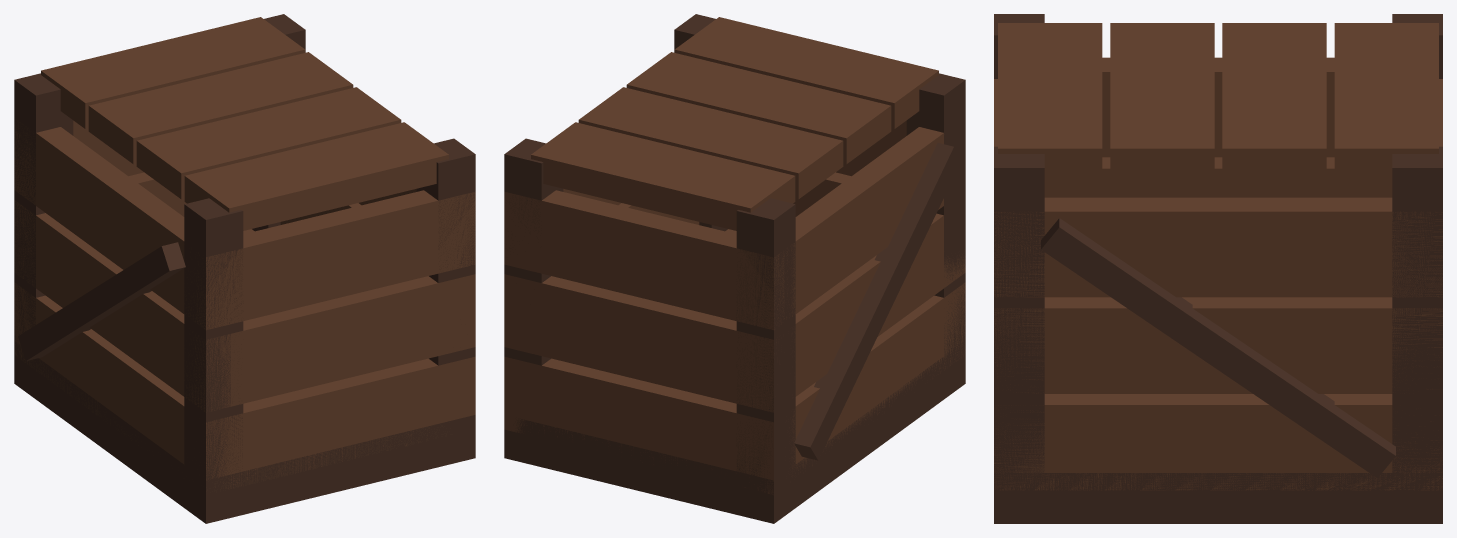
Rendered from Crate__Closed.fbx.
3 views of the same model, side by side, from view 1: azimuth 30°, elevation 25°; view 2: azimuth 150°, elevation 25°; view 3: azimuth 270°, elevation 25° (orthographic). The views are drawn at different scales.
Visible parts, largest first — view 1: Crate__Closed; view 2: Crate__Closed; view 3: Crate__Closed.
Part boxes in pixels (x1,y1,x2,y2): Crate__Closed: (14, 14, 475, 523); Crate__Closed: (504, 14, 965, 523); Crate__Closed: (994, 14, 1442, 523).
Bounding box in the file's own units: 72.9 × 71 × 80.
1 material, 1 textured.
